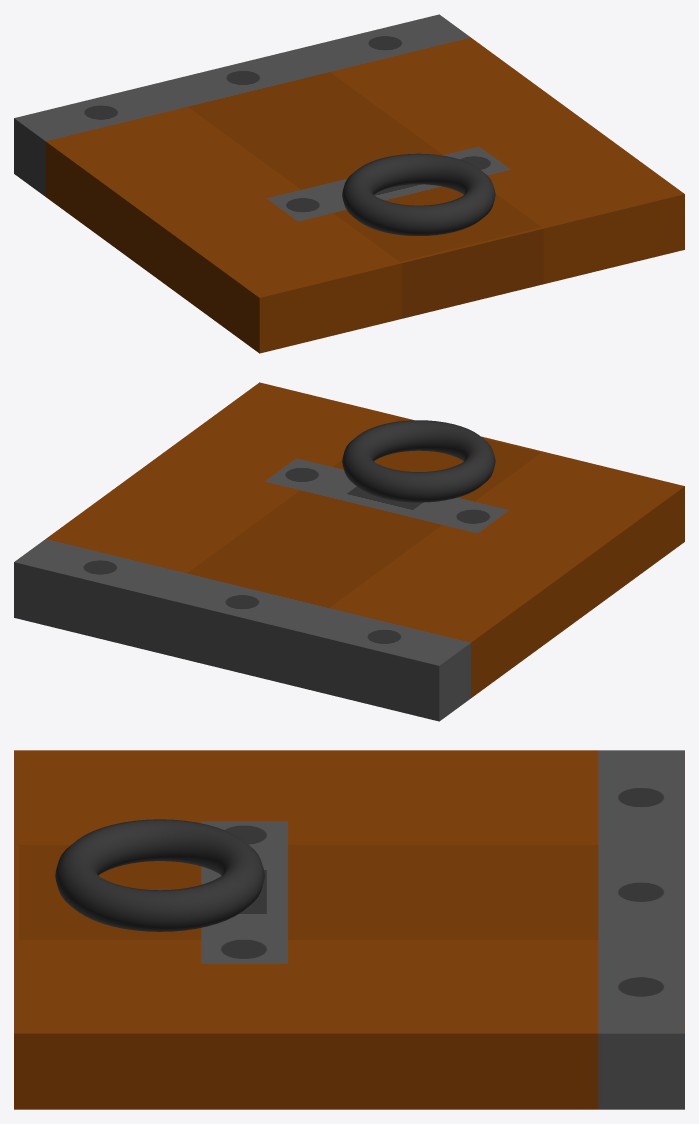
File: Door V1.fbx
The picture shows the model from 3 angles, top to bottom: view 1: azimuth 30°, elevation 25°; view 2: azimuth 150°, elevation 25°; view 3: azimuth 270°, elevation 25°; orthographic projection. The views are drawn at different scales.
Visible parts, largest first — view 1: Cube, Torus; view 2: Cube, Torus; view 3: Cube, Torus.
Boxes of the visible parts, x1,y1,x2,y2 form: Cube: [14, 14, 684, 353]; Torus: [342, 153, 495, 235]; Cube: [14, 382, 684, 721]; Torus: [342, 420, 495, 502]; Cube: [14, 750, 684, 1109]; Torus: [55, 819, 264, 931].
Size of the model in its own units: 200 by 36.62 by 200.
Materials: 2 (2 with a texture image).
